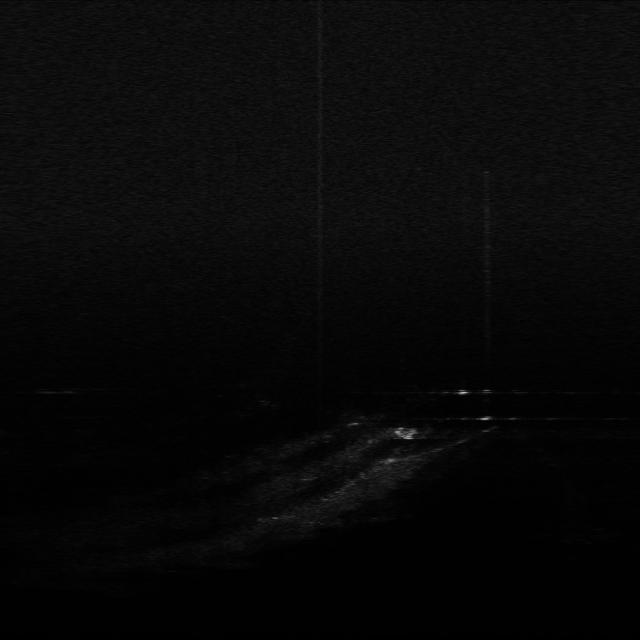rov: (392, 424, 423, 442)
